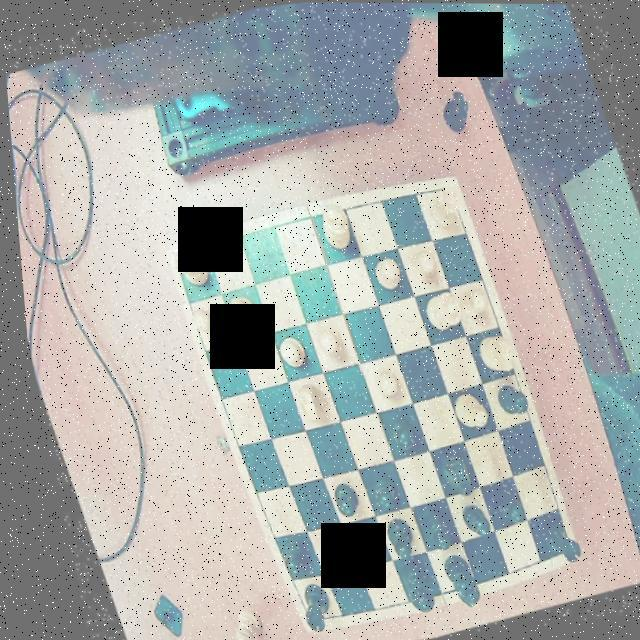chess-table-corners: (160, 244, 190, 274), (548, 531, 572, 563), (430, 175, 458, 202), (290, 607, 316, 632)
